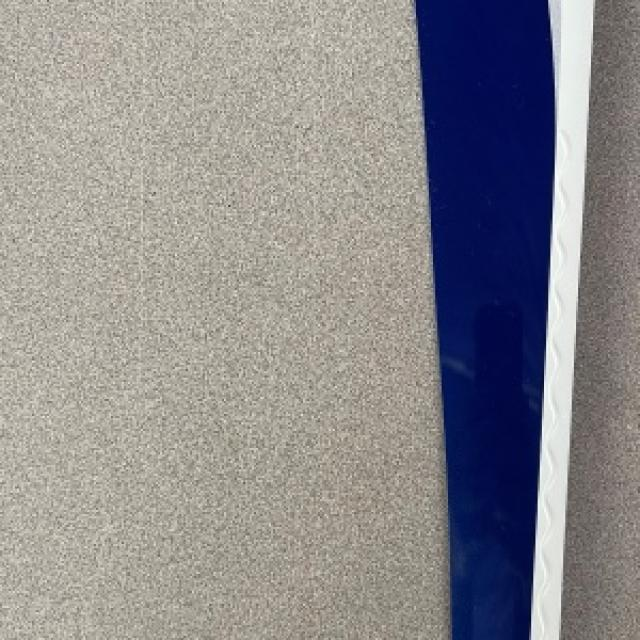healthy: (414, 0, 589, 638), (561, 0, 638, 638)
